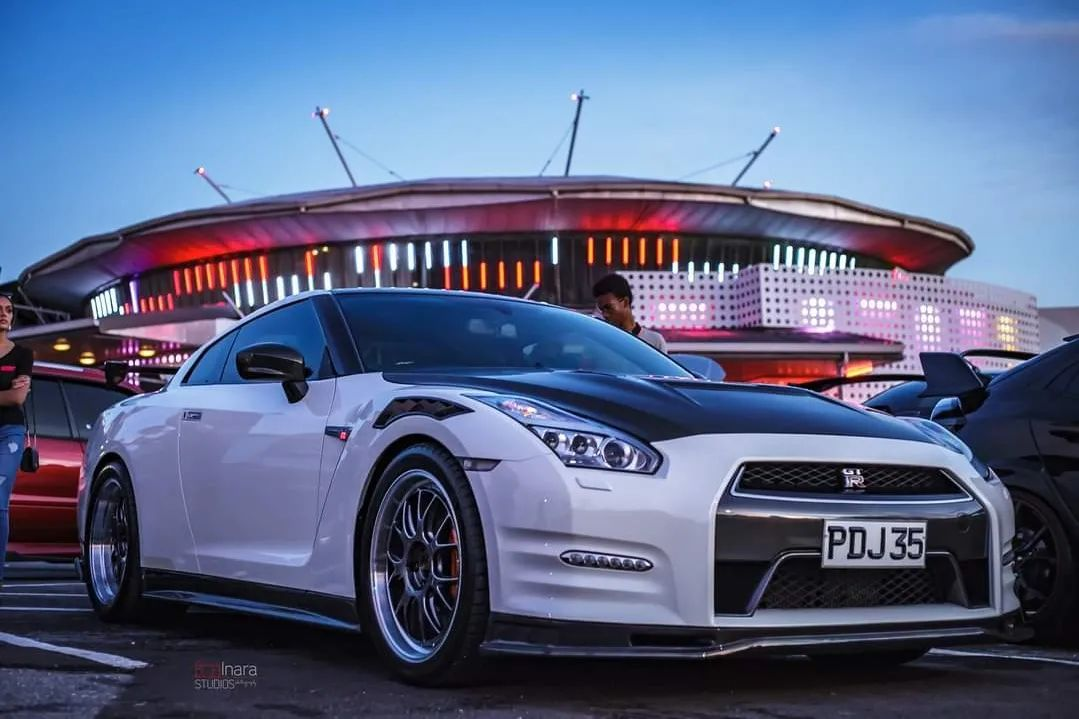License-Plate: (824, 518, 926, 562)
